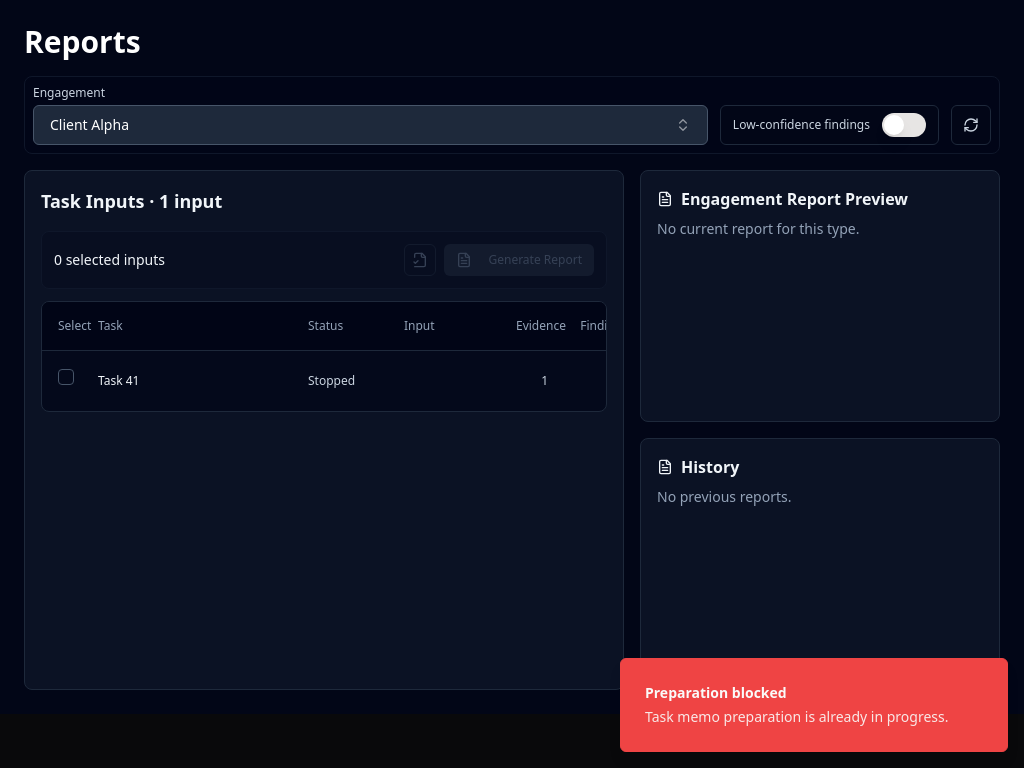
Test case: <EngagementReportingWorkspace /> › shows backend generation validation failures without clearing selection
Expected: the text "Task 41" is shown, [98,372,140,388]
What coordinates should you click on to do the following:
click the checkbox named "Select Task 41"
I would click on:
 (66, 377)
Its box is [58,369,74,385].
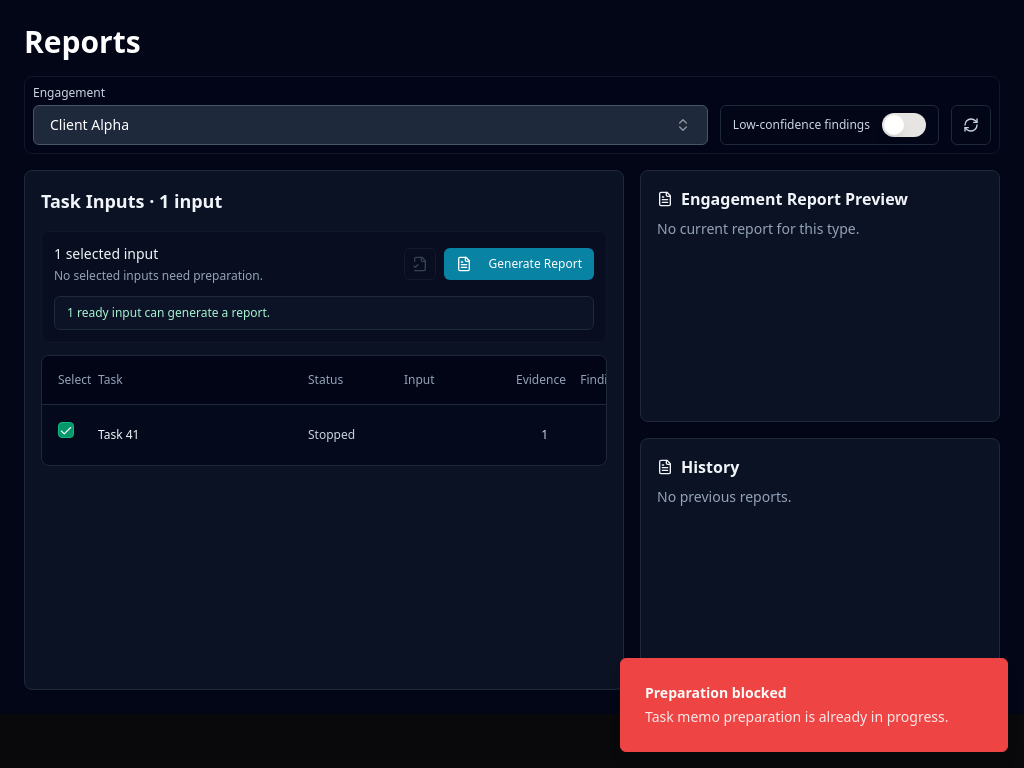
What coordinates should you click on to do the following:
click the button "Generate Report"
I would click on:
 (519, 264)
Its box is [444,248,594,280].
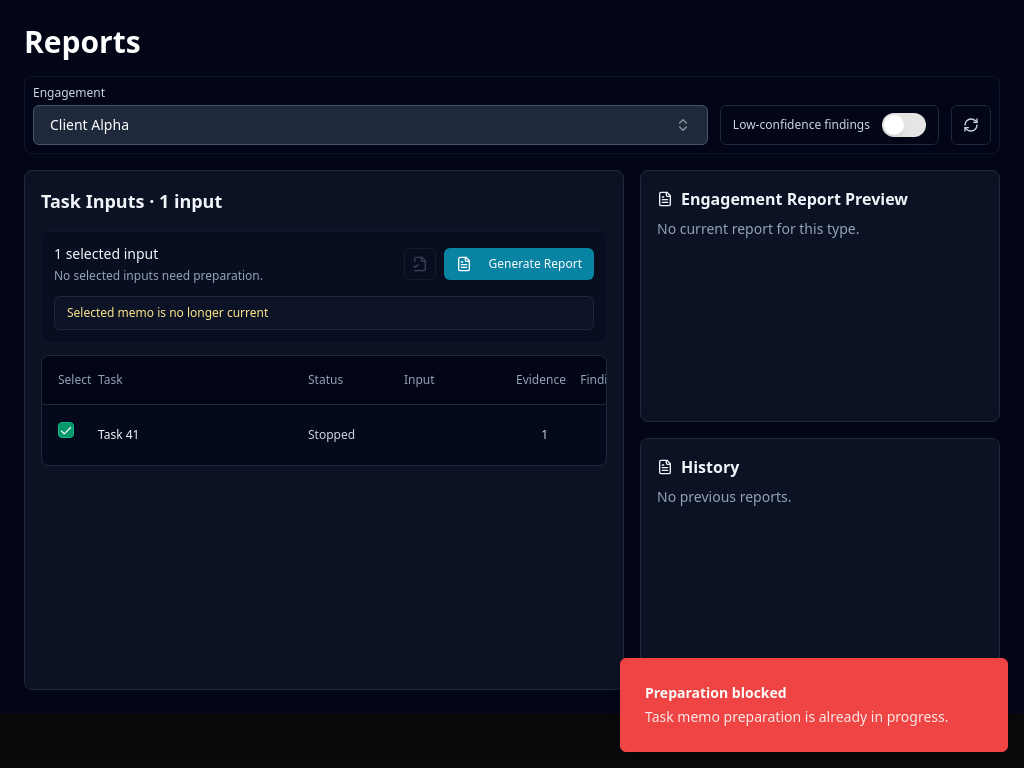
Now the text "1 selected input" is shown, box [54,244,158,263]
Now the text "Selected memo is no longer current" is shown, box [54,296,594,330]
